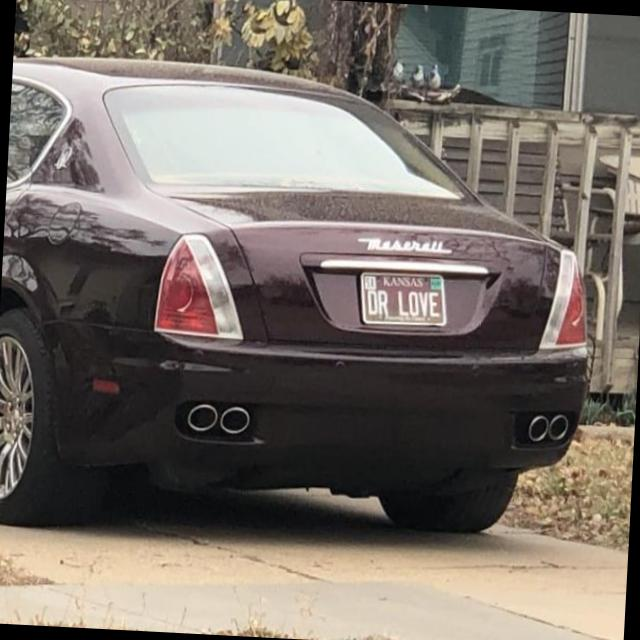LicensePlate: (362, 273, 447, 326)
